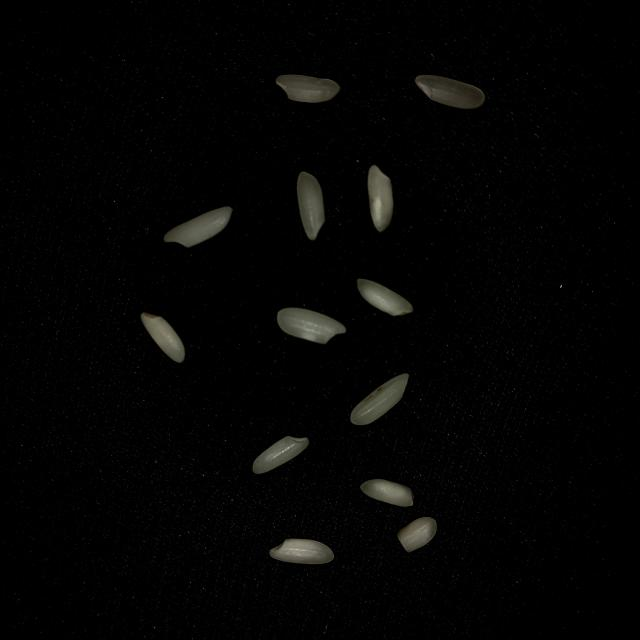Broken: (397, 516, 437, 552)
Full: (350, 373, 409, 426), (163, 206, 233, 248), (277, 308, 346, 344), (415, 74, 485, 108), (140, 312, 185, 363), (253, 435, 309, 474), (357, 278, 413, 316), (297, 172, 325, 240), (276, 74, 340, 103), (368, 165, 393, 232), (270, 538, 334, 564), (360, 478, 414, 506)
